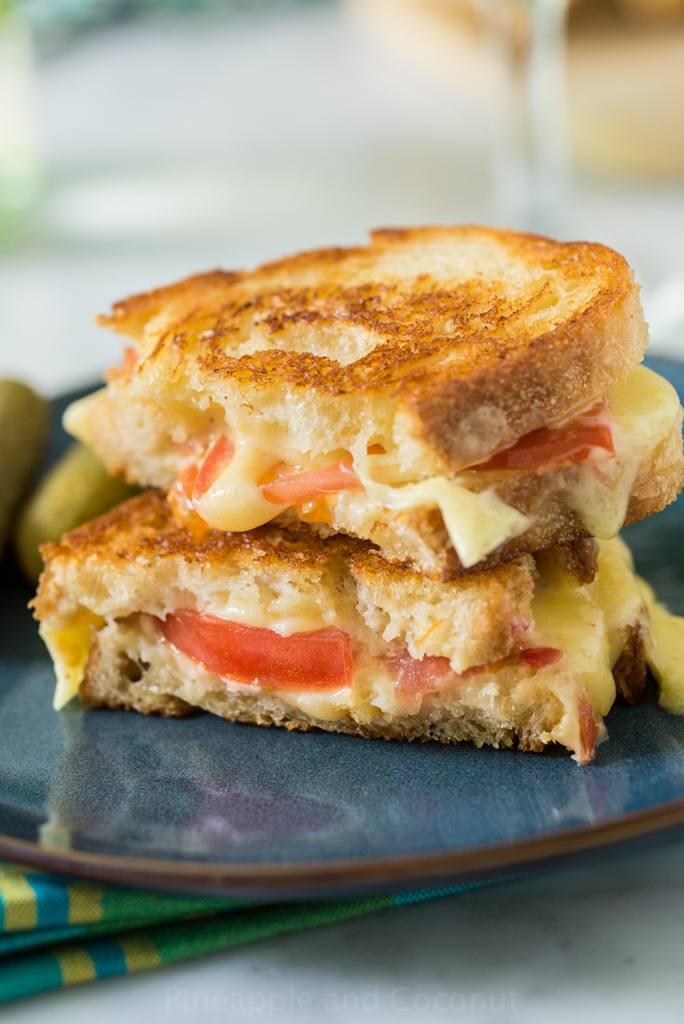sandwich: (65, 213, 683, 577), (18, 480, 683, 761)
